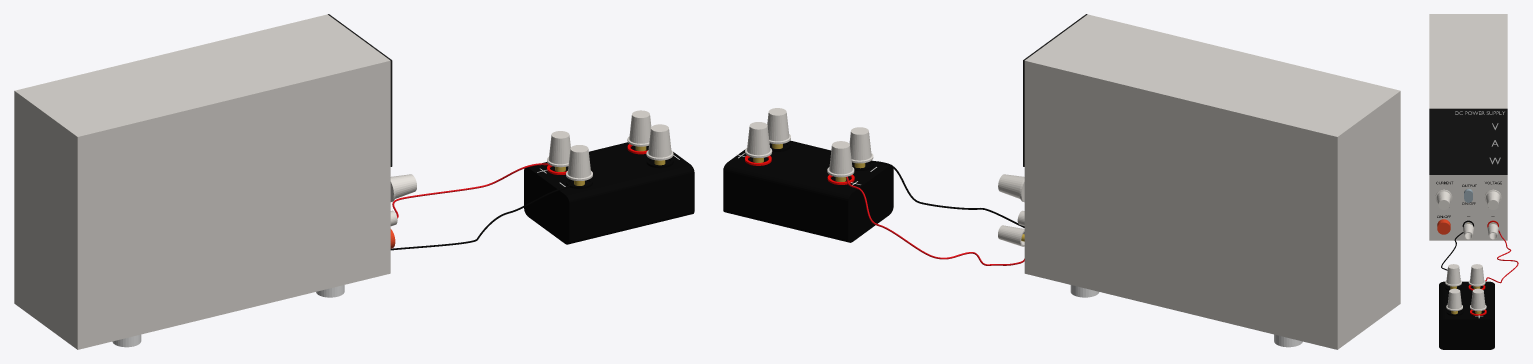
The picture shows the model from 3 angles, left to right: view 1: azimuth 30°, elevation 25°; view 2: azimuth 150°, elevation 25°; view 3: azimuth 270°, elevation 25°; orthographic projection. The views are drawn at different scales.
Parts seen in each view (by area): view 1: 主体, box1, 按钮2.004, 按钮2.008, 按钮2.003, 按钮2.006, 按钮2; view 2: 主体, box1, 按钮2.006, 按钮2.003, 按钮2.008, 按钮2.004, 按钮1, 红线; view 3: 主体, 屏幕, box1, 按钮2.006, 按钮2.008, 按钮2.003, 按钮2.004, 按钮2, 按钮1, 开关机按钮, 红线, 帽体 (+3 smaller).
Part boxes in pixels (box(x1,y1,x2,y2)): 主体: box(14, 14, 390, 349); box1: box(524, 142, 694, 244); 按钮2.004: box(646, 124, 673, 160); 按钮2.008: box(566, 145, 592, 180); 按钮2.003: box(627, 110, 651, 146); 按钮2.006: box(547, 131, 570, 167); 按钮2: box(390, 174, 416, 201); 主体: box(1024, 14, 1400, 349); box1: box(723, 140, 893, 242); 按钮2.006: box(827, 141, 854, 177); 按钮2.003: box(745, 122, 772, 157); 按钮2.008: box(849, 127, 873, 163); 按钮2.004: box(767, 108, 790, 144); 按钮1: box(998, 174, 1024, 202); 红线: box(846, 176, 1024, 265); 主体: box(1429, 14, 1507, 240); 屏幕: box(1429, 108, 1507, 174); box1: box(1439, 281, 1494, 349); 按钮2.006: box(1468, 264, 1485, 286); 按钮2.008: box(1445, 264, 1461, 286); 按钮2.003: box(1470, 288, 1486, 311); 按钮2.004: box(1446, 288, 1462, 311); 按钮2: box(1435, 189, 1452, 209); 按钮1: box(1484, 189, 1501, 209); 开关机按钮: box(1437, 219, 1450, 234); 红线: box(1485, 230, 1518, 283); 帽体: box(1463, 224, 1473, 239).
Bounding box in the file's own units: 39.91 × 14.5 × 7.97.
